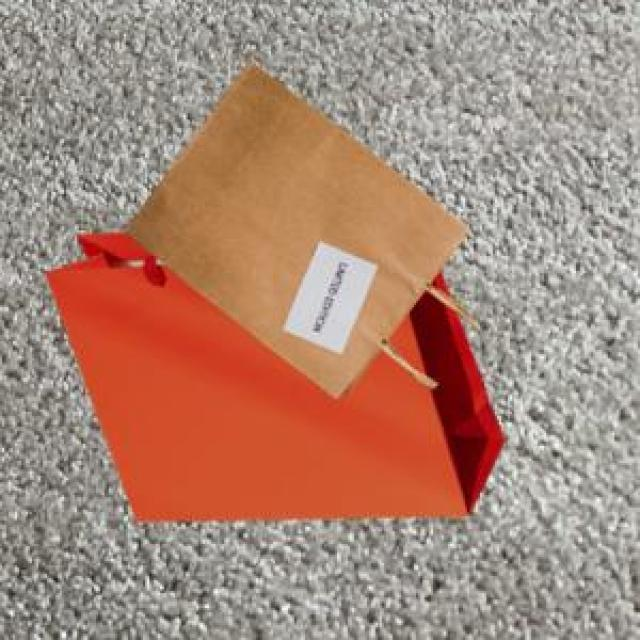paper: (43, 228, 499, 516), (124, 58, 474, 395)
